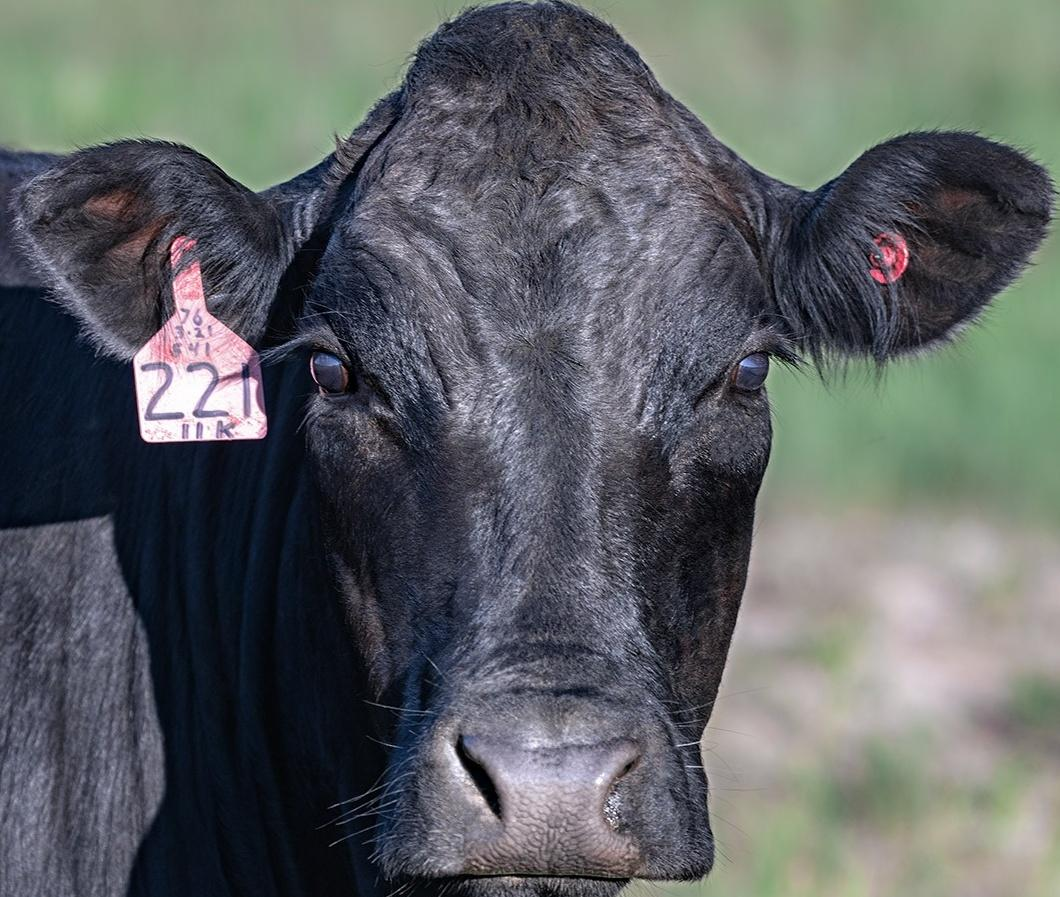muzzles: (350, 674, 749, 897)
